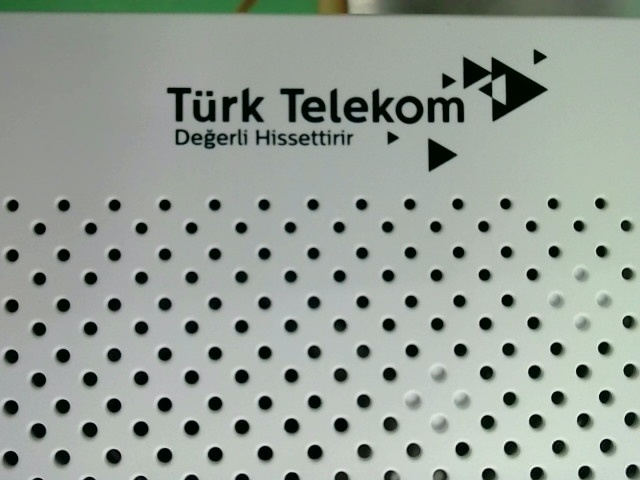AQ_TURKTelekom: (165, 43, 551, 173)
